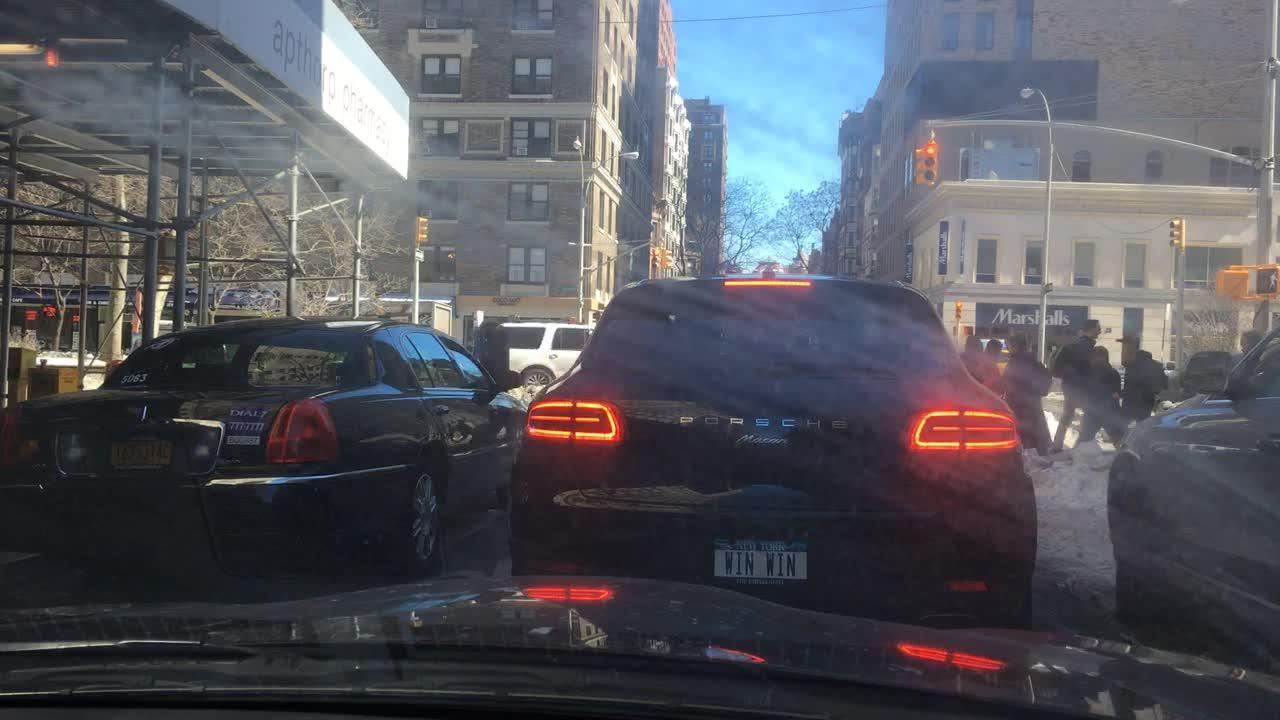porsche: (668, 404, 868, 446)
